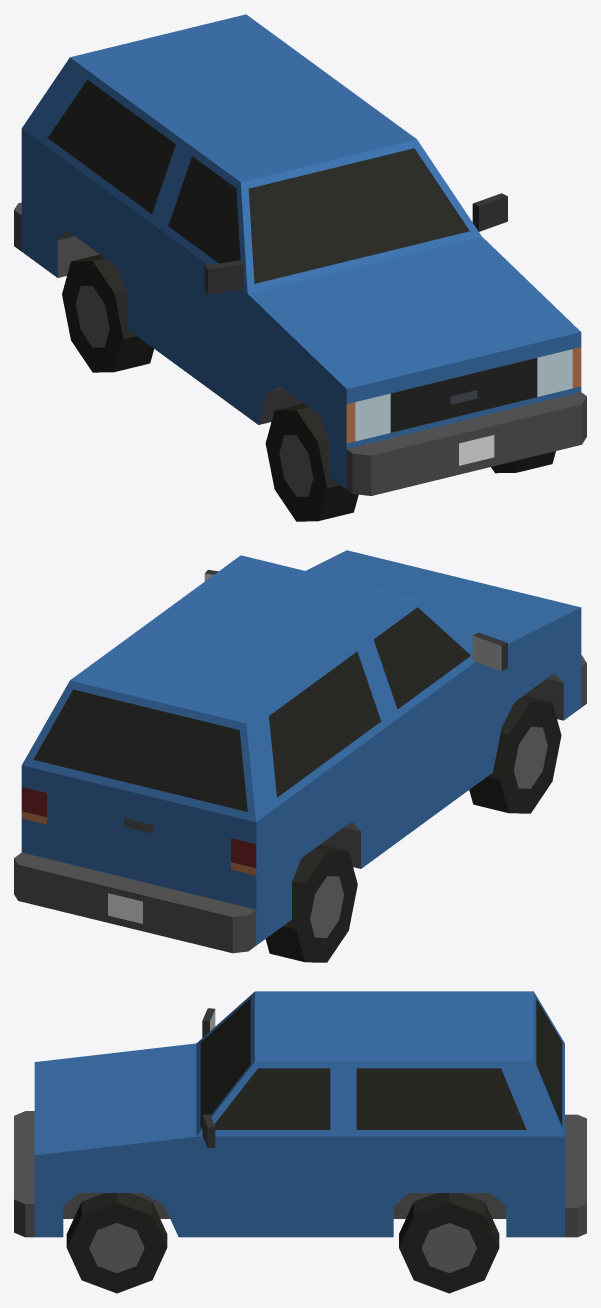
Rendered from Veh_SUV_02_Blue.obj.
The picture shows the model from 3 angles, top to bottom: view 1: azimuth 30°, elevation 25°; view 2: azimuth 150°, elevation 25°; view 3: azimuth 270°, elevation 25°; orthographic projection. The views are drawn at different scales.
Bounding box in the file's own units: 1.27 × 1.1 × 2.58.
